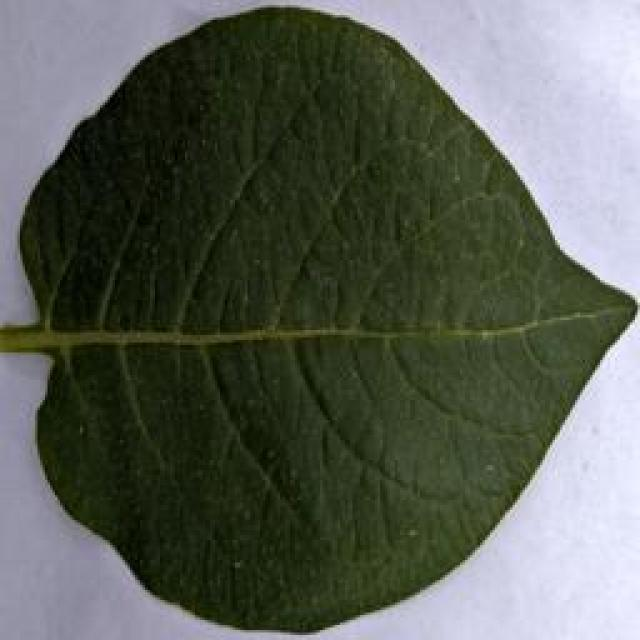Potato_Healthy: (9, 5, 628, 628)
